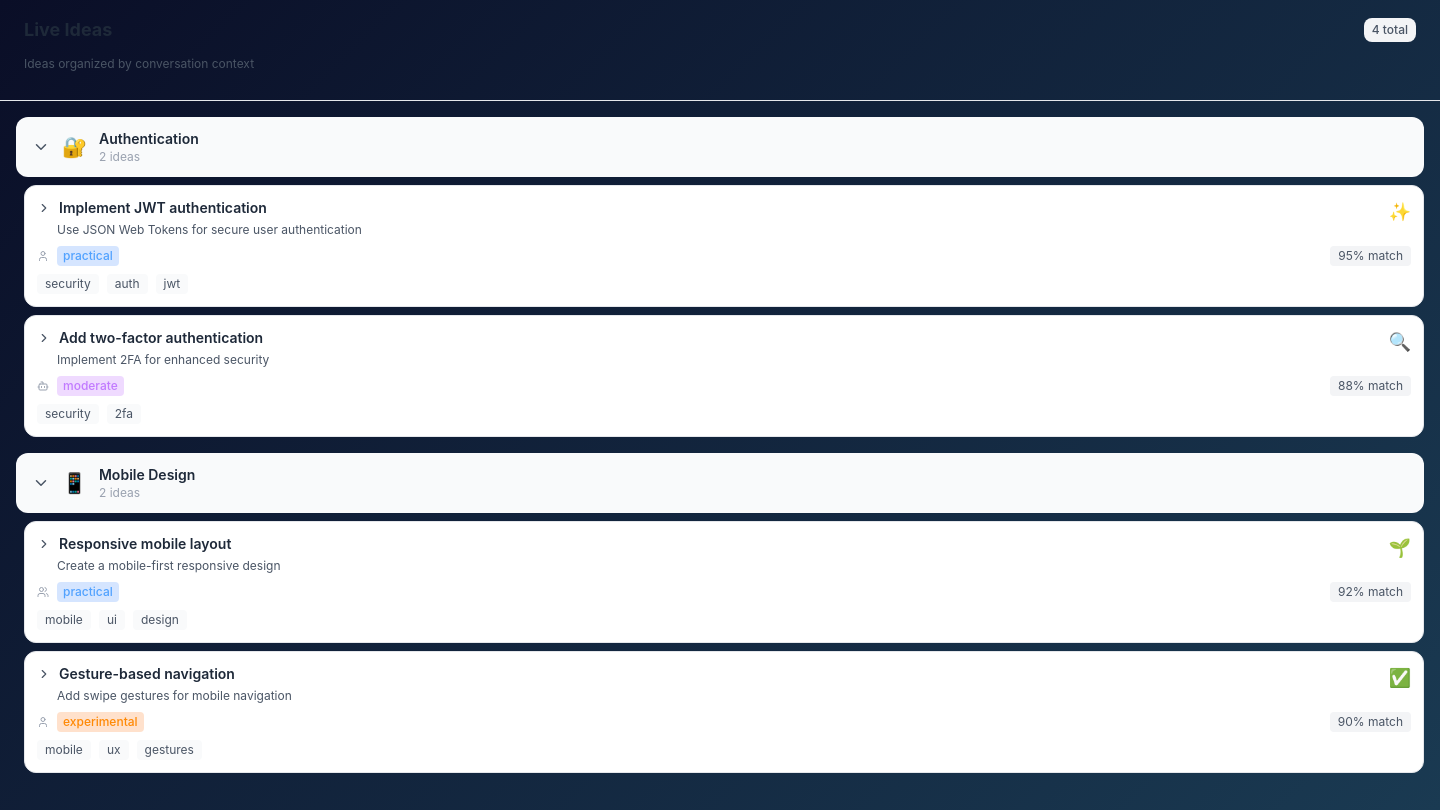
LiveIdeasPanel › Topic Expansion › should expand topic when clicking collapsed header
Click the button "🔐 Authentication 2 ideas": point(149, 138) top-left (16, 117), bottom-right (1424, 177)
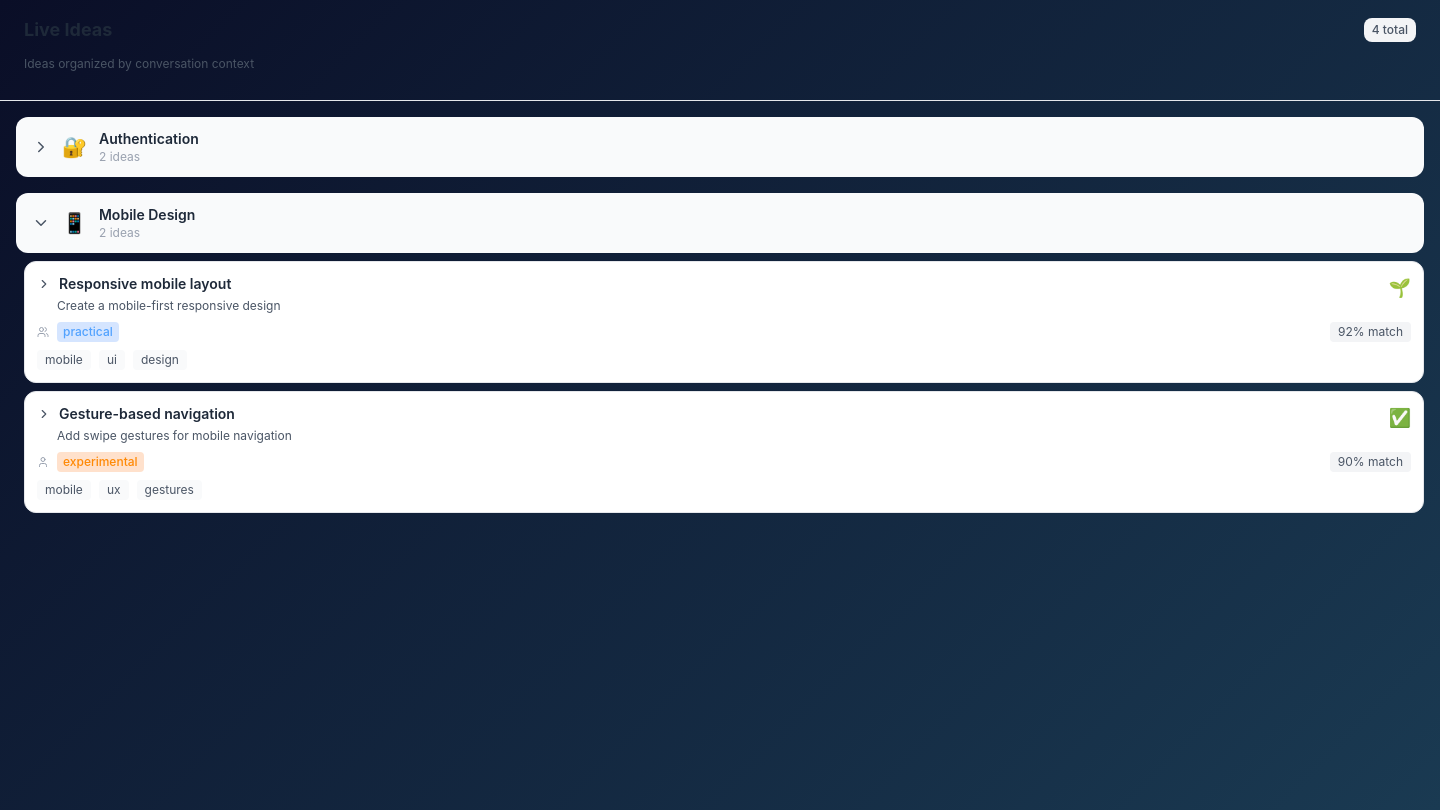
Check: the heading "Implement JWT authentication" is gone
Click the button "🔐 Authentication 2 ideas": point(149, 138) top-left (16, 117), bottom-right (1424, 177)
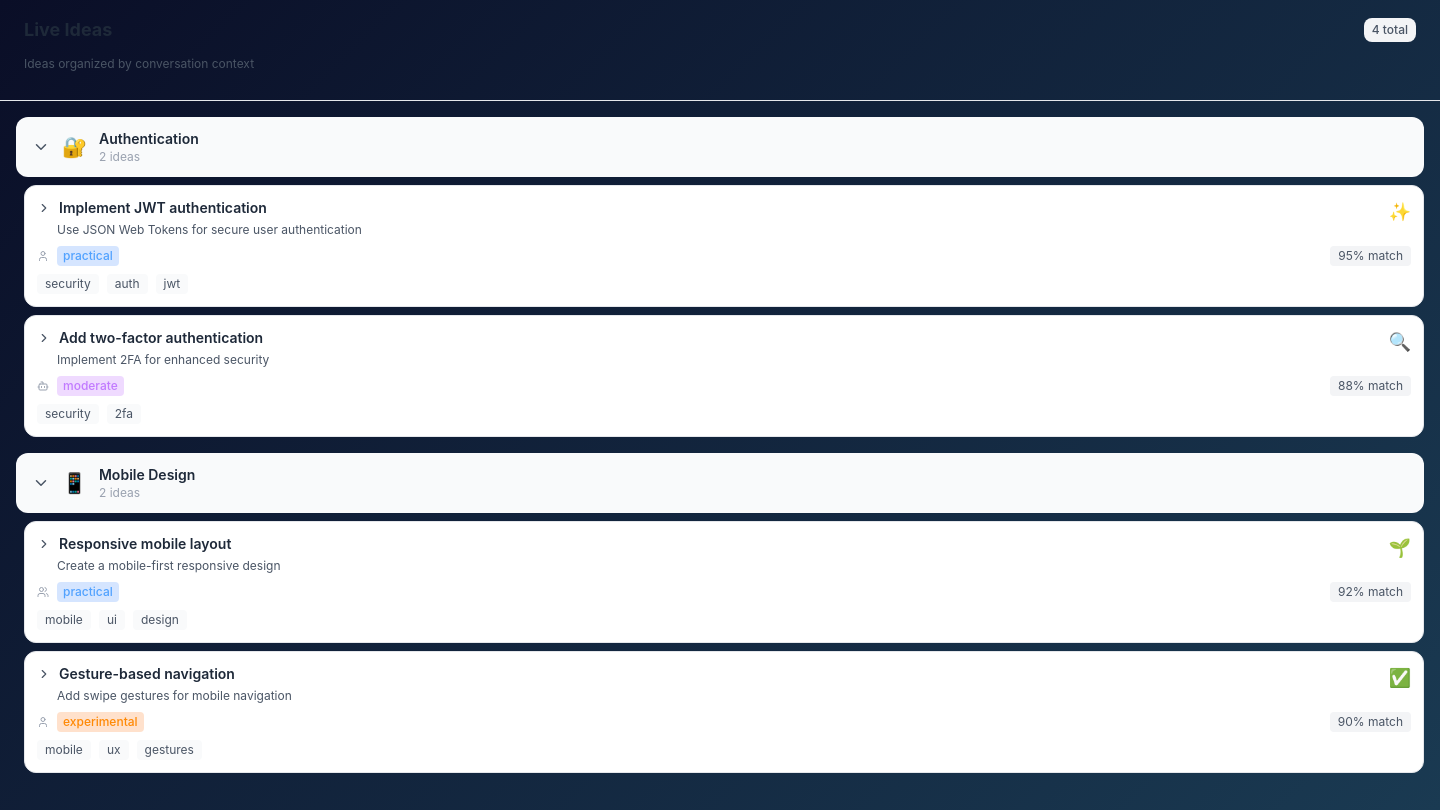
Check: the heading "Implement JWT authentication" is shown, box top-left (59, 198), bottom-right (267, 218)
